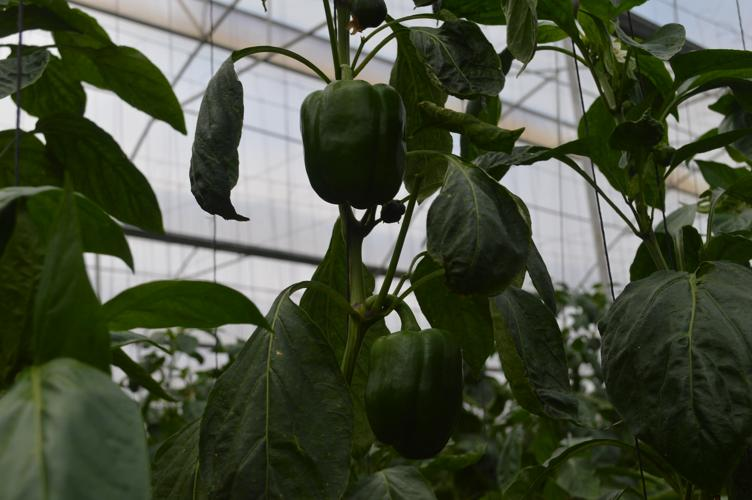BellPepper: (301, 85, 410, 216), (360, 328, 465, 459)
